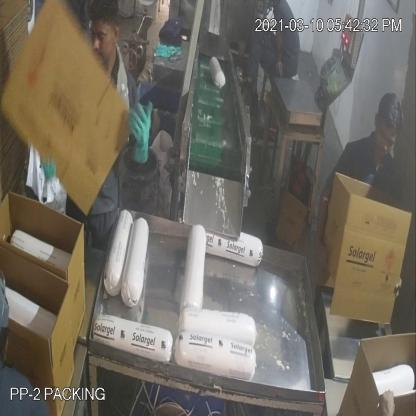glove: (119, 102, 170, 172)
no_glove: (314, 176, 343, 296)
